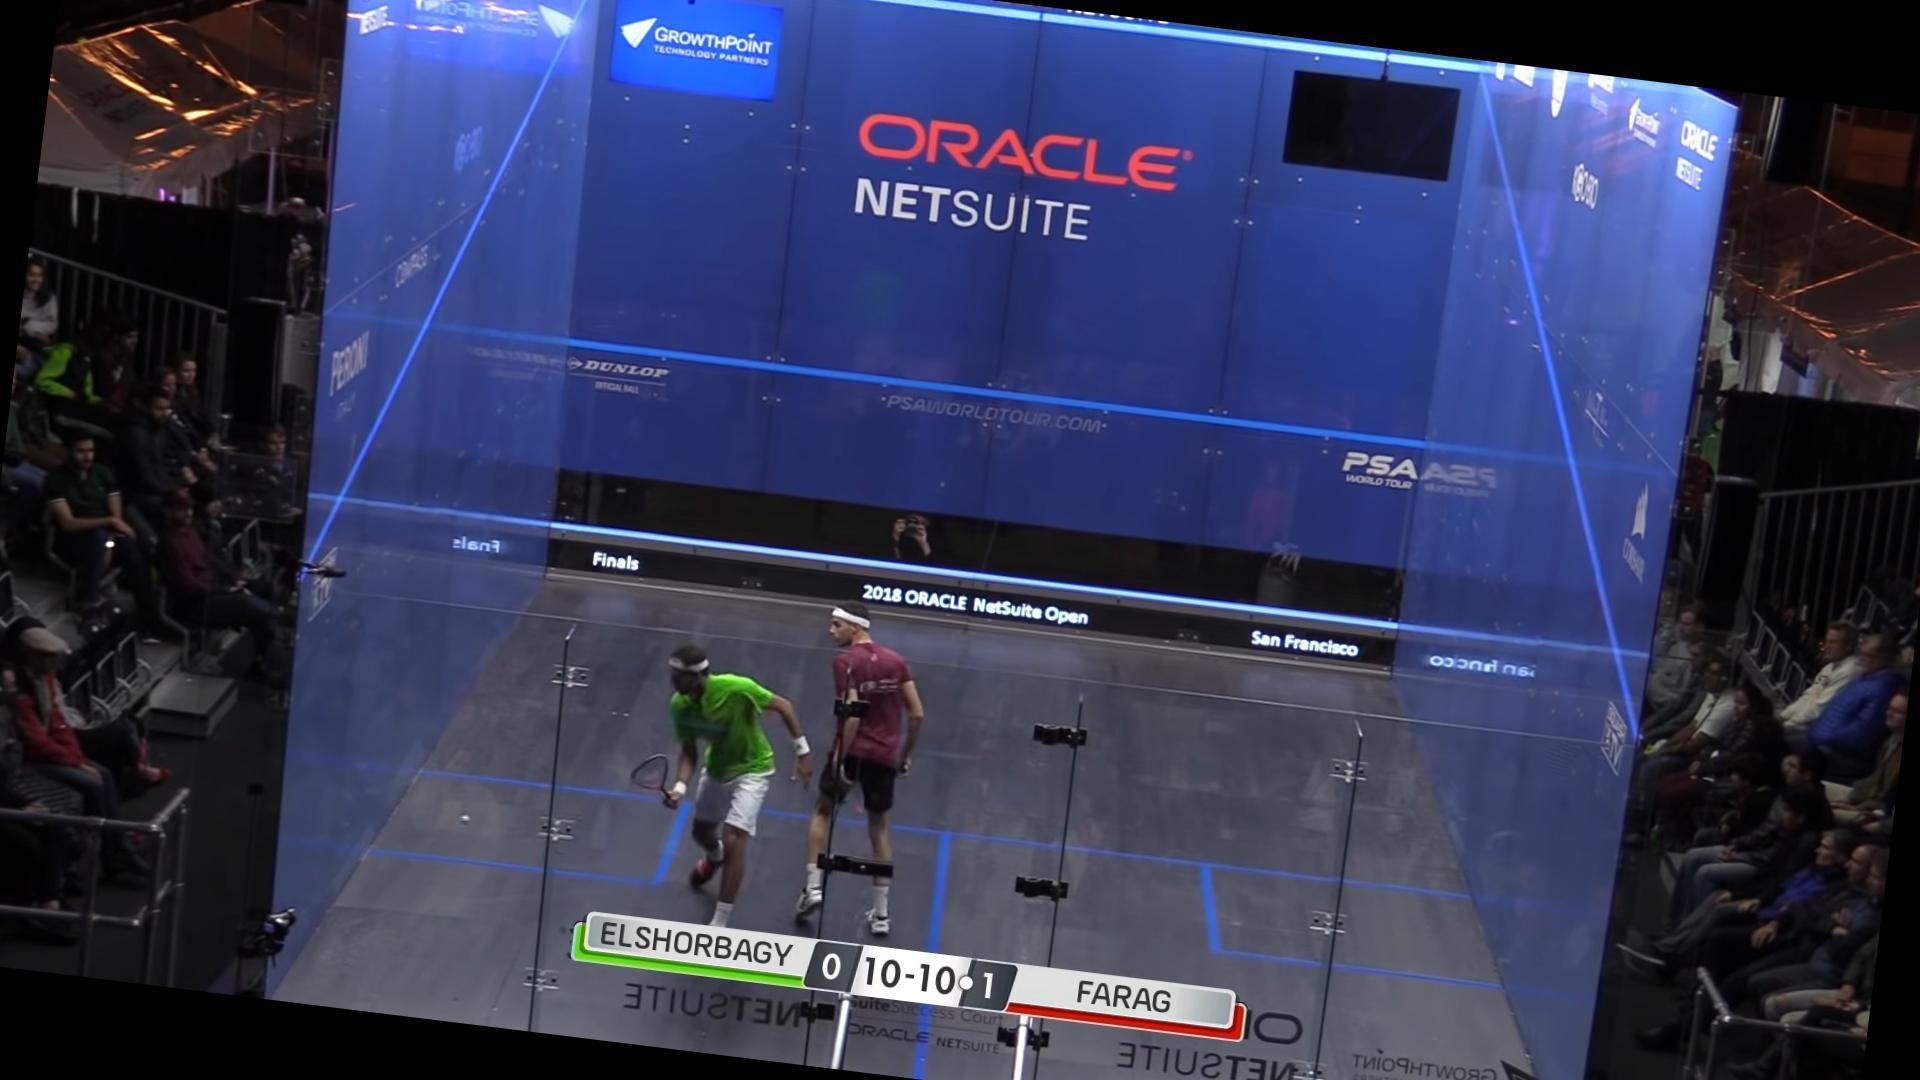Squash-Ball: (454, 799, 483, 832)
